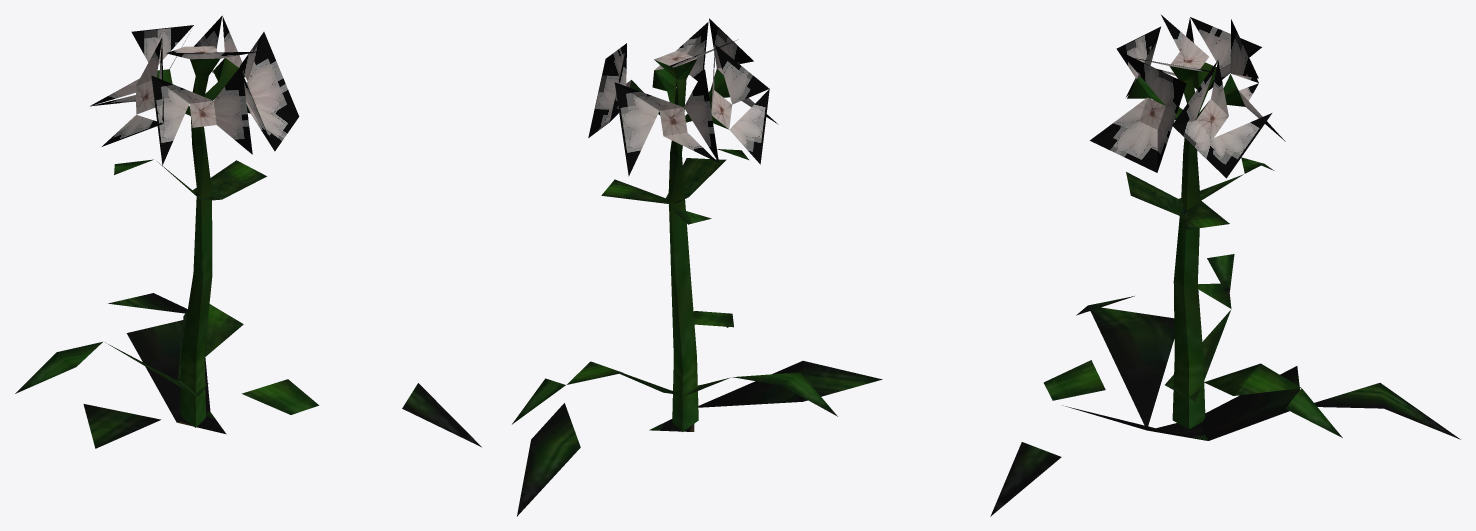
Rendered from ITPL_PERM_HERB.glb.
3 views of the same model, side by side, from view 1: azimuth 30°, elevation 25°; view 2: azimuth 150°, elevation 25°; view 3: azimuth 270°, elevation 25° (orthographic).
Visible parts, largest first — view 1: ITPL_PERM_HERB; view 2: ITPL_PERM_HERB; view 3: ITPL_PERM_HERB.
Part boxes in pixels (x1,y1,x2,y2): ITPL_PERM_HERB: [15, 15, 481, 448]; ITPL_PERM_HERB: [512, 18, 882, 516]; ITPL_PERM_HERB: [990, 15, 1460, 516].
Size of the model in its own units: 0.7228 by 0.6635 by 0.7155.
Materials: 2 (2 with a texture image).
